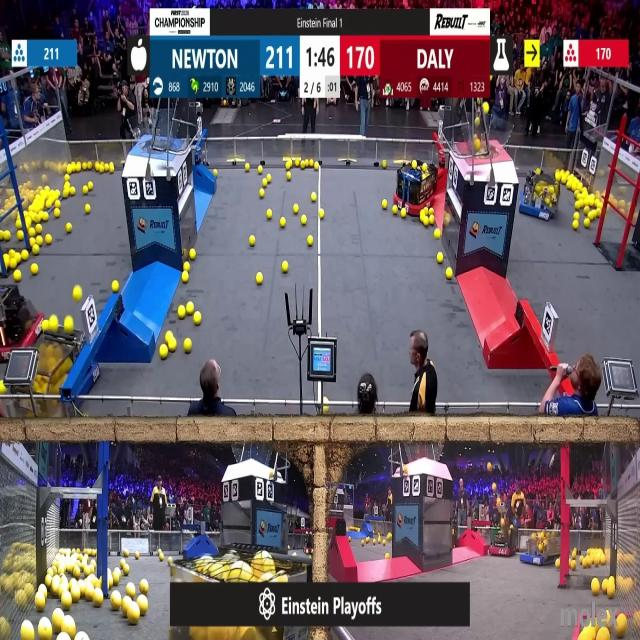ball_airborne: (485, 103, 490, 114), (475, 141, 479, 149), (474, 117, 478, 125)
ball_ground: (140, 581, 148, 595), (184, 339, 191, 354), (13, 270, 20, 282), (170, 341, 177, 353), (193, 313, 200, 325), (255, 273, 262, 285), (282, 262, 288, 274), (31, 266, 38, 276), (447, 269, 453, 280), (182, 273, 188, 284), (249, 236, 255, 247), (183, 263, 189, 273), (33, 245, 39, 255), (280, 217, 286, 227), (309, 236, 314, 247), (66, 223, 72, 232), (16, 232, 22, 241), (392, 206, 397, 216), (434, 230, 439, 240), (269, 208, 273, 220), (312, 191, 317, 200), (400, 209, 405, 218), (256, 167, 262, 174), (56, 200, 61, 208), (259, 188, 264, 196), (557, 560, 561, 569), (44, 212, 48, 220), (386, 553, 390, 560), (244, 163, 248, 169), (266, 183, 270, 188)
goal: (460, 117, 515, 158), (131, 118, 188, 152)
robot_blue: (521, 173, 559, 219), (520, 528, 558, 566)
robot_red: (396, 160, 438, 212), (487, 523, 517, 555)
